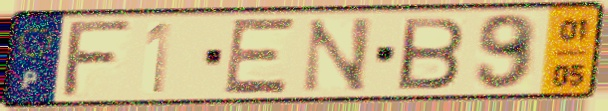1: (144, 21, 174, 95)
9: (470, 11, 543, 93)
B: (395, 15, 468, 92)
E: (219, 15, 300, 97)
F: (57, 17, 139, 100)
N: (297, 15, 375, 95)
